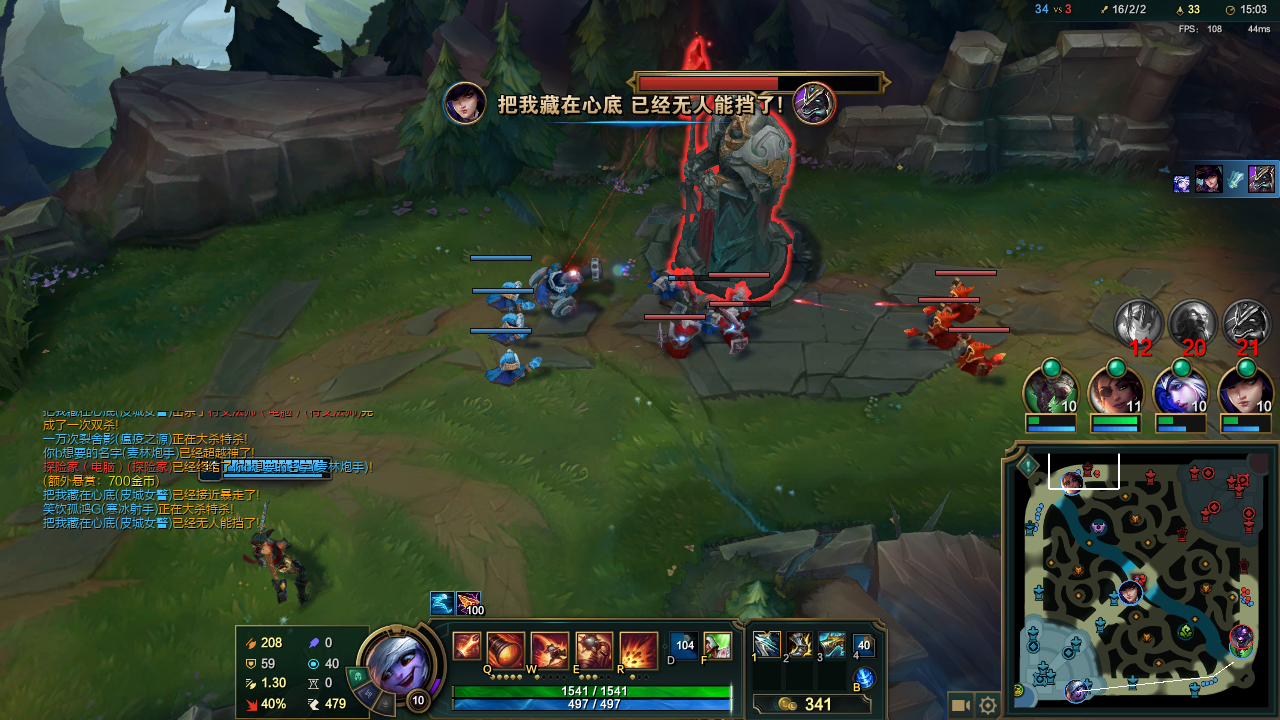DFFYT: (672, 86, 809, 304)
DFXB: (947, 332, 1005, 382), (901, 307, 958, 353), (646, 319, 705, 362), (940, 280, 987, 328), (707, 308, 752, 355)
WFXB: (483, 351, 552, 397), (485, 311, 542, 351), (486, 275, 538, 313)
